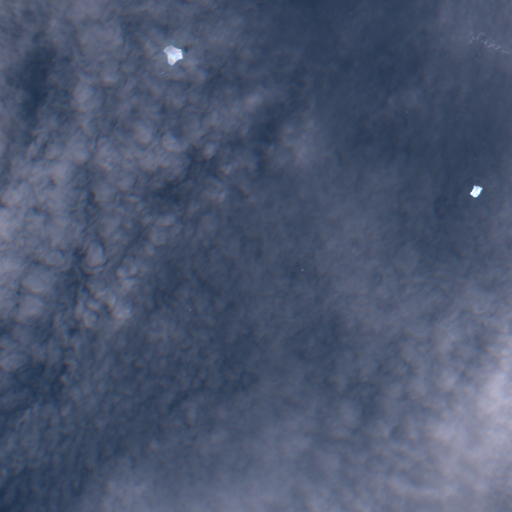Iceberg: (164, 45, 182, 64), (470, 185, 482, 197), (302, 269, 303, 270), (189, 309, 190, 310)
